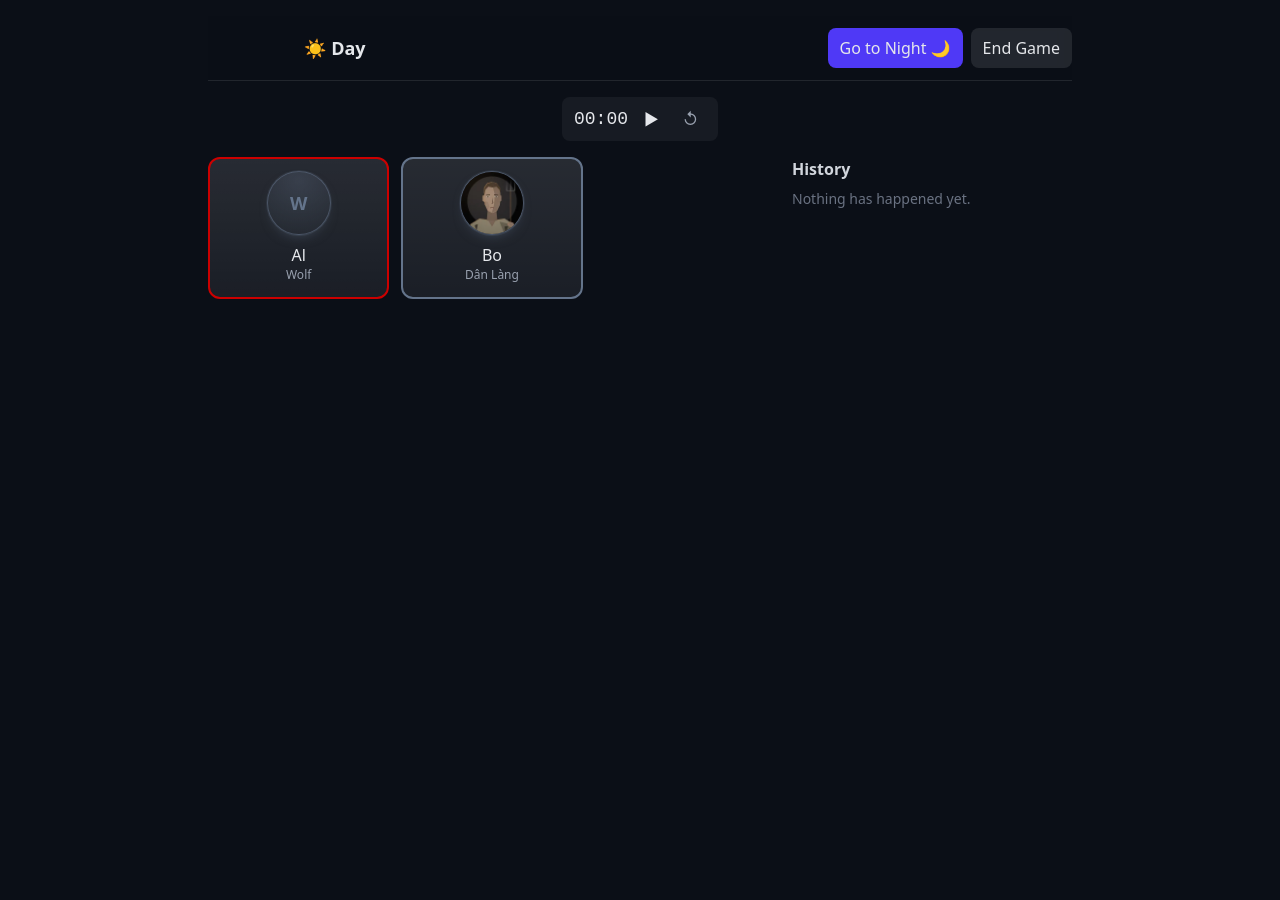
Test case: Day player dialog › names the role in the dialog
Click the text "Al": {"x": 299, "y": 255} [292,244,306,266]
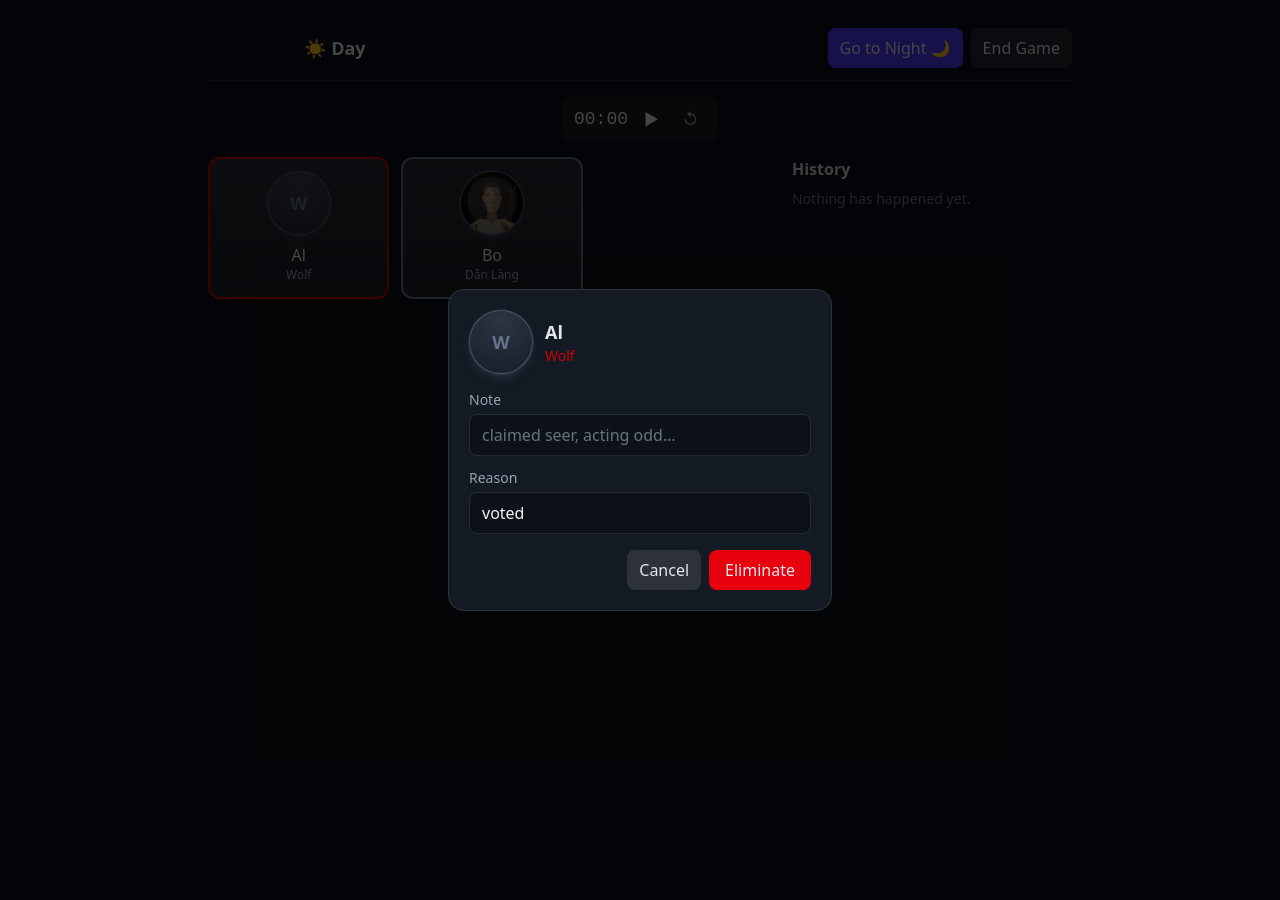
Check: the dialog shows "Wolf", box [545,346,575,365]
